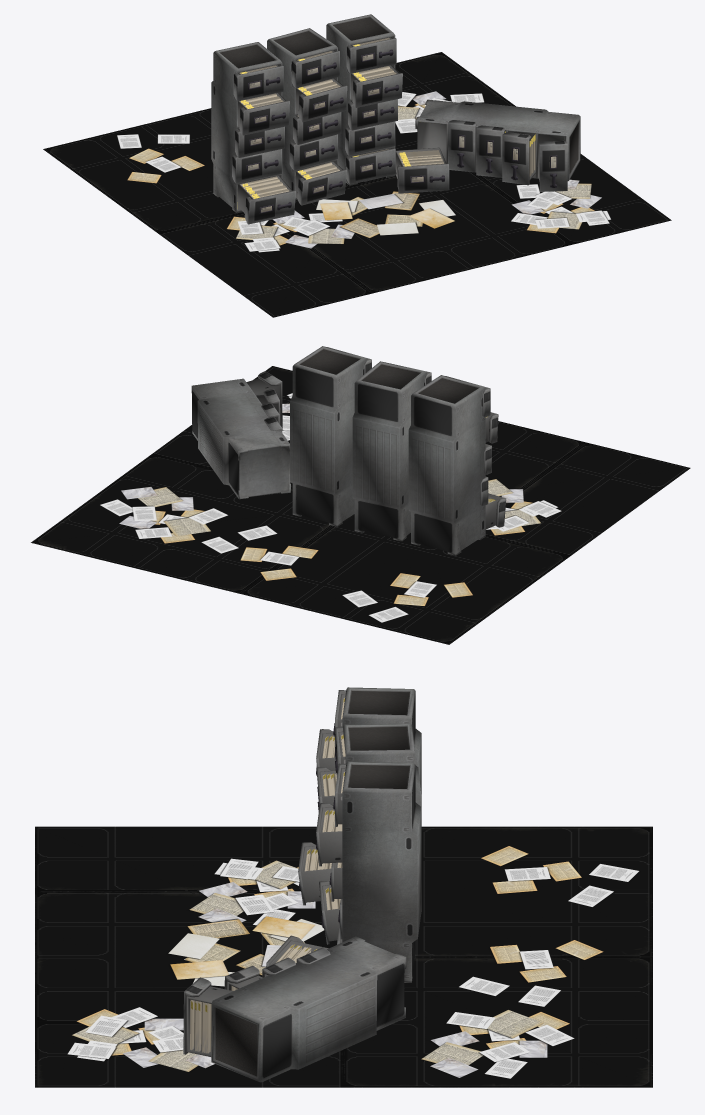
The picture shows the model from 3 angles, top to bottom: view 1: azimuth 30°, elevation 25°; view 2: azimuth 150°, elevation 25°; view 3: azimuth 270°, elevation 25°; orthographic projection. The views are drawn at different scales.
Parts seen in each view (by area): view 1: Plane, bakeObject.065_low.005, bakeObject.065_low.002, Plane.003, Plane.001, Plane.005, bakeObject.065_low.003, bakeObject.065_low.004, bakeObject.008_low.005, bakeObject.008_low.002, Plane.006, bakeObject.005_low.004 (+18 smaller); view 2: Plane, bakeObject.065_low.002, bakeObject.065_low.004, bakeObject.065_low.003, bakeObject.065_low.005, Plane.002, Plane.004, Plane.006, Plane.005, bakeObject.009_low.005, bakeObject.008_low.002; view 3: Plane, bakeObject.065_low.005, bakeObject.065_low.004, Plane.002, Plane.001, Plane.003, Plane.005, Plane.006, Plane.004, bakeObject.065_low.002, bakeObject.065_low.003, bakeObject.009_low.005 (+6 smaller).
Boxes of the visible parts, x1=… form: Plane: x1=43, y1=52, x2=671, y2=317; bakeObject.065_low.005: x1=415, y1=99, x2=580, y2=180; bakeObject.065_low.002: x1=211, y1=42, x2=282, y2=213; Plane.003: x1=316, y1=191, x2=456, y2=238; Plane.001: x1=511, y1=179, x2=611, y2=233; Plane.005: x1=227, y1=210, x2=355, y2=252; bakeObject.065_low.003: x1=267, y1=28, x2=337, y2=200; bakeObject.065_low.004: x1=326, y1=14, x2=395, y2=185; bakeObject.008_low.005: x1=395, y1=147, x2=449, y2=193; bakeObject.008_low.002: x1=238, y1=176, x2=295, y2=224; Plane.006: x1=117, y1=134, x2=204, y2=183; bakeObject.005_low.004: x1=351, y1=65, x2=402, y2=107; Plane: x1=31, y1=366, x2=690, y2=644; bakeObject.065_low.002: x1=408, y1=375, x2=485, y2=555; bakeObject.065_low.004: x1=290, y1=346, x2=366, y2=526; bakeObject.065_low.003: x1=352, y1=361, x2=427, y2=541; bakeObject.065_low.005: x1=191, y1=378, x2=290, y2=499; Plane.002: x1=99, y1=486, x2=227, y2=543; Plane.004: x1=201, y1=525, x2=318, y2=580; Plane.006: x1=341, y1=573, x2=472, y2=622; Plane.005: x1=486, y1=478, x2=561, y2=535; bakeObject.009_low.005: x1=246, y1=371, x2=282, y2=429; bakeObject.008_low.002: x1=485, y1=493, x2=506, y2=529; Plane: x1=35, y1=826, x2=652, y2=1087; bakeObject.065_low.005: x1=211, y1=936, x2=406, y2=1082; bakeObject.065_low.004: x1=342, y1=761, x2=421, y2=982; Plane.002: x1=420, y1=1010, x2=574, y2=1078; Plane.001: x1=67, y1=1007, x2=215, y2=1072; Plane.003: x1=167, y1=916, x2=324, y2=986; Plane.005: x1=188, y1=858, x2=315, y2=925; Plane.006: x1=481, y1=846, x2=640, y2=907; Plane.004: x1=458, y1=940, x2=603, y2=1007; bakeObject.065_low.002: x1=342, y1=687, x2=421, y2=806; bakeObject.065_low.003: x1=343, y1=723, x2=421, y2=806; bakeObject.009_low.005: x1=183, y1=977, x2=233, y2=1056.
Size of the model in its own units: 6.82 by 2.16 by 6.86.
Materials: 6 (6 with a texture image).
